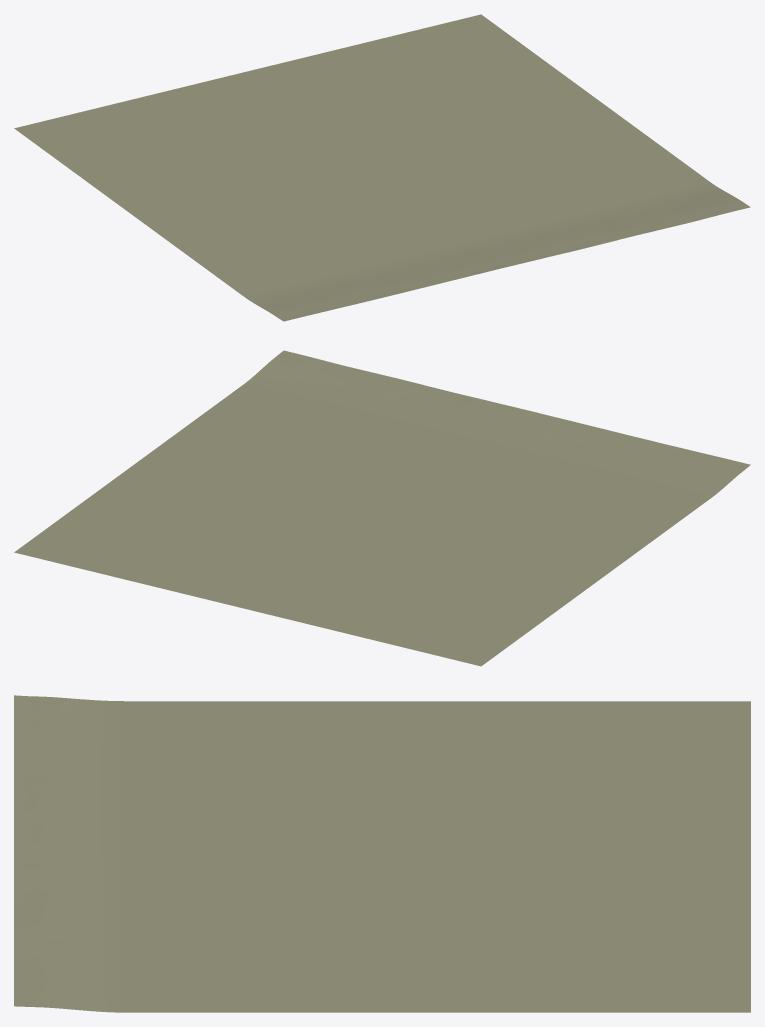
Rendered from SM_VB_CityTerrain_4_5.fbx.
The picture shows the model from 3 angles, top to bottom: view 1: azimuth 30°, elevation 25°; view 2: azimuth 150°, elevation 25°; view 3: azimuth 270°, elevation 25°; orthographic projection. The views are drawn at different scales.
Parts seen in each view (by area): view 1: SM_VB_CityTerrain_4_5; view 2: SM_VB_CityTerrain_4_5; view 3: SM_VB_CityTerrain_4_5.
Boxes of the visible parts, left/top/right/bottom form: SM_VB_CityTerrain_4_5: left=14, top=14, right=750, bottom=321; SM_VB_CityTerrain_4_5: left=14, top=350, right=750, bottom=666; SM_VB_CityTerrain_4_5: left=14, top=695, right=750, bottom=1012.
Bounding box in the file's own units: 600 × 5.63 × 600.
